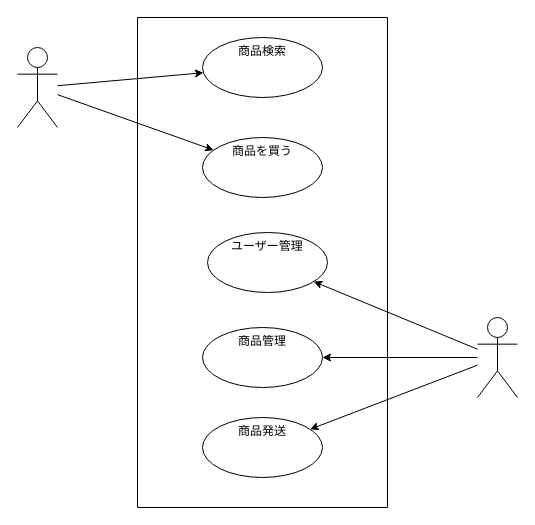
Image size: 535x525. Some labels were removed from this diagram. Here are the shapes that lost their labels. From the top down, the centre of each, then its label:
(37,87): 購入者
(497,357): 管理者
